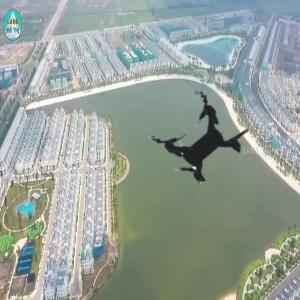drone: (121, 63, 280, 222)
